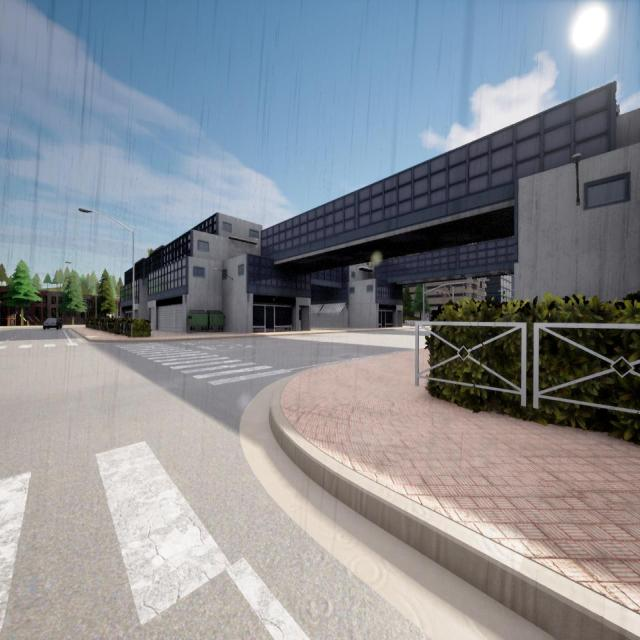Vehicle: (43, 318, 63, 330)
traffic_light: (503, 291, 505, 298), (480, 281, 482, 288), (465, 283, 467, 289), (448, 284, 450, 290), (438, 291, 438, 296), (442, 292, 442, 297)
